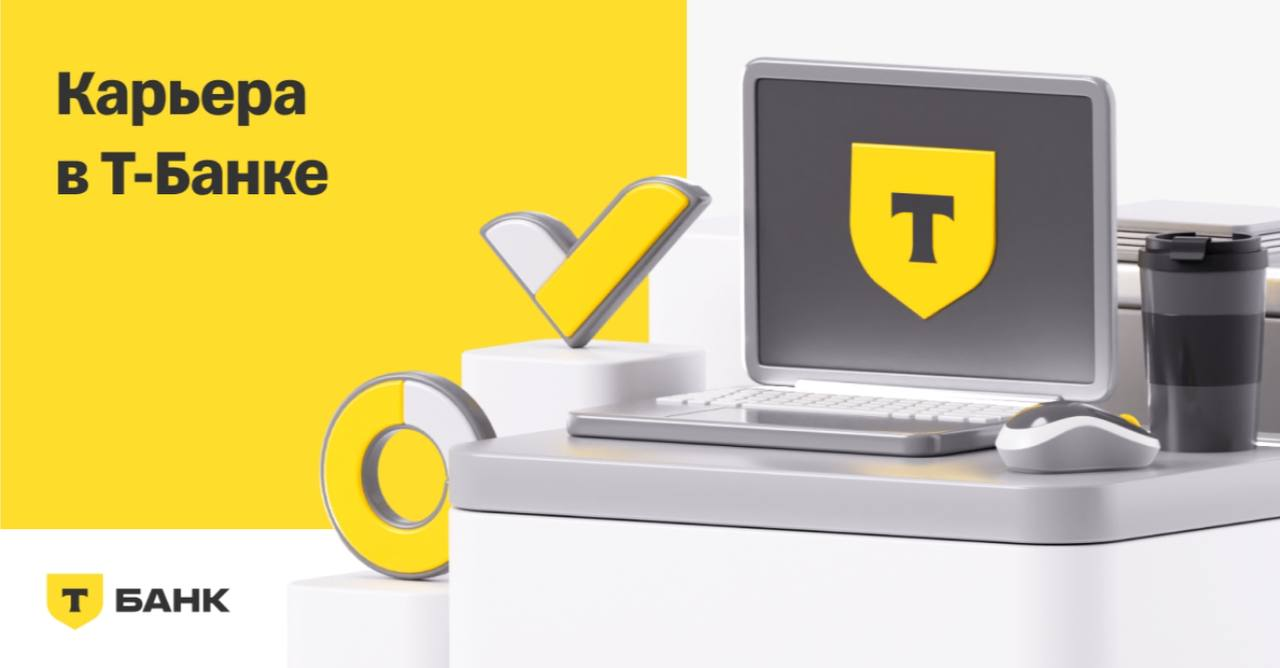TBank: (851, 142, 996, 320), (48, 575, 102, 629)
